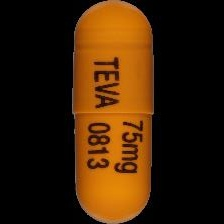61786-020: (0, 0, 224, 224)
